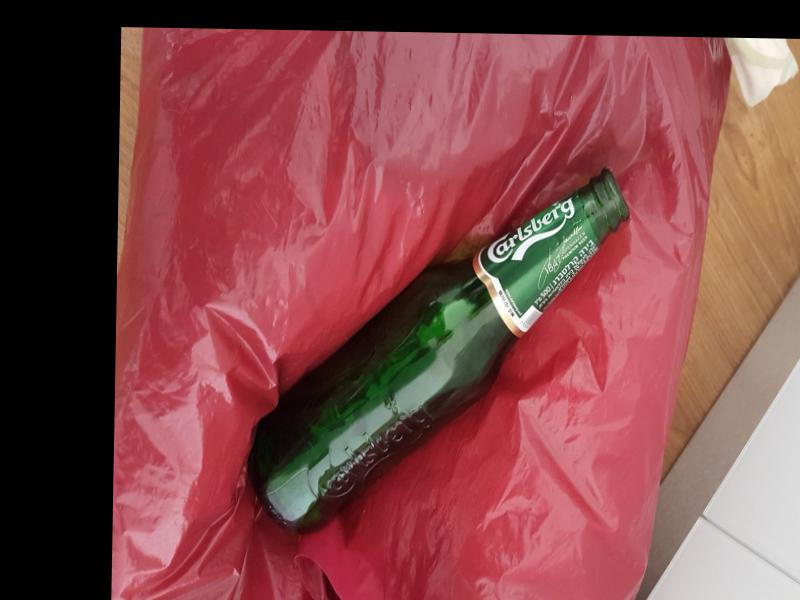Beer: (248, 161, 630, 535)
